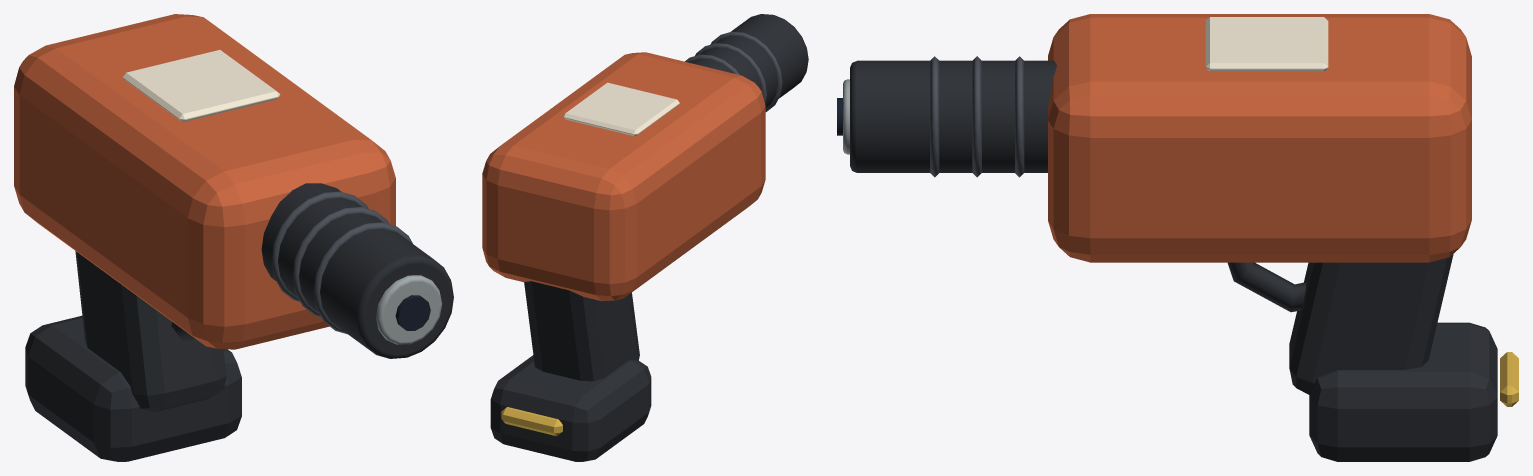
Rendered from prop_rivet_driver.glb.
The picture shows the model from 3 angles, left to right: view 1: azimuth 30°, elevation 25°; view 2: azimuth 150°, elevation 25°; view 3: azimuth 270°, elevation 25°; orthographic projection. The views are drawn at different scales.
Visible parts, largest first — view 1: prop_rivet_driver_mesh; view 2: prop_rivet_driver_mesh; view 3: prop_rivet_driver_mesh.
Boxes of the visible parts, box(x1,y1,x2,y2) form: prop_rivet_driver_mesh: box(14, 14, 453, 461); prop_rivet_driver_mesh: box(482, 14, 808, 461); prop_rivet_driver_mesh: box(837, 14, 1518, 461).
Bounding box in the file's own units: 0.1 × 0.186 × 0.2895.
